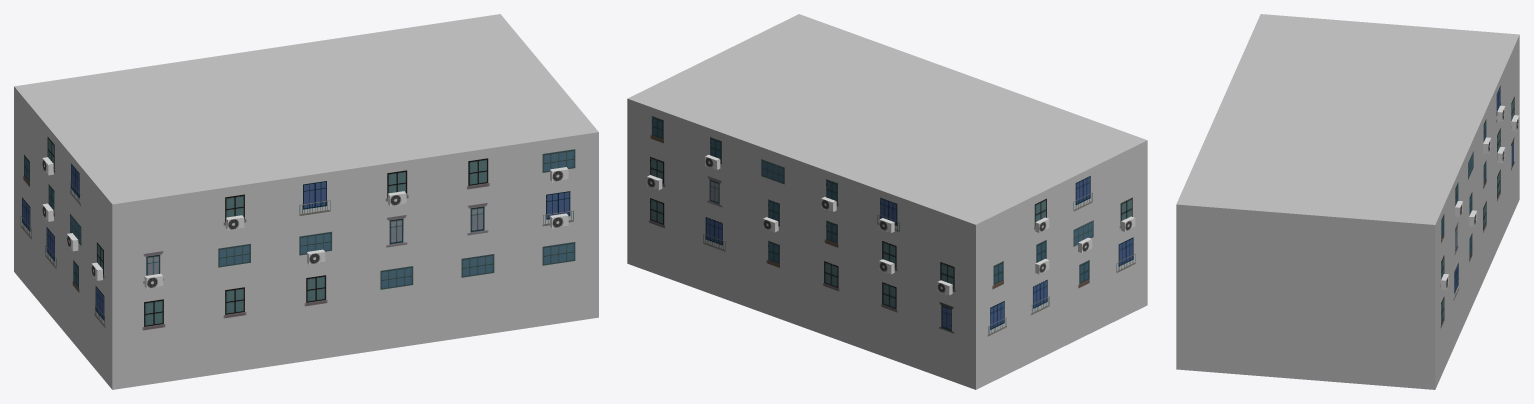
The model's file is 111StationFix15.fbx.
3 renders of one model, left to right at view 1: azimuth 30°, elevation 25°; view 2: azimuth 150°, elevation 25°; view 3: azimuth 270°, elevation 25°, orthographic. The views are drawn at different scales.
Visible parts, largest first — view 1: Cube.592; view 2: Cube.592; view 3: Cube.592.
Boxes of the visible parts, left/top/right/bottom form: Cube.592: left=14, top=14, right=598, bottom=389; Cube.592: left=627, top=14, right=1147, bottom=389; Cube.592: left=1176, top=14, right=1519, bottom=389.
Size of the model in its own units: 25.18 by 9.17 by 17.3.
